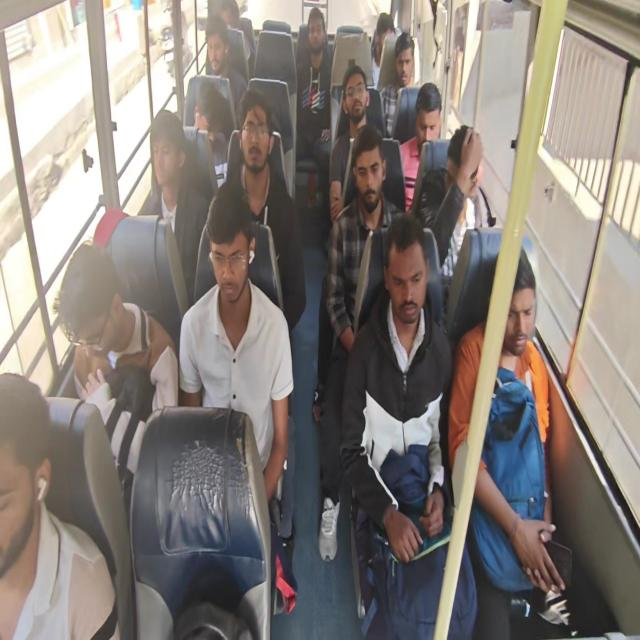person: (0, 378, 45, 575), (57, 241, 127, 357), (208, 208, 254, 302), (497, 265, 539, 363), (140, 106, 185, 191), (387, 231, 426, 322), (443, 131, 479, 212), (241, 100, 270, 177), (192, 83, 226, 146), (414, 85, 441, 157), (354, 136, 382, 202), (217, 0, 249, 37), (305, 9, 329, 58), (345, 75, 369, 123), (205, 32, 231, 76), (397, 44, 421, 89), (373, 12, 399, 53)
